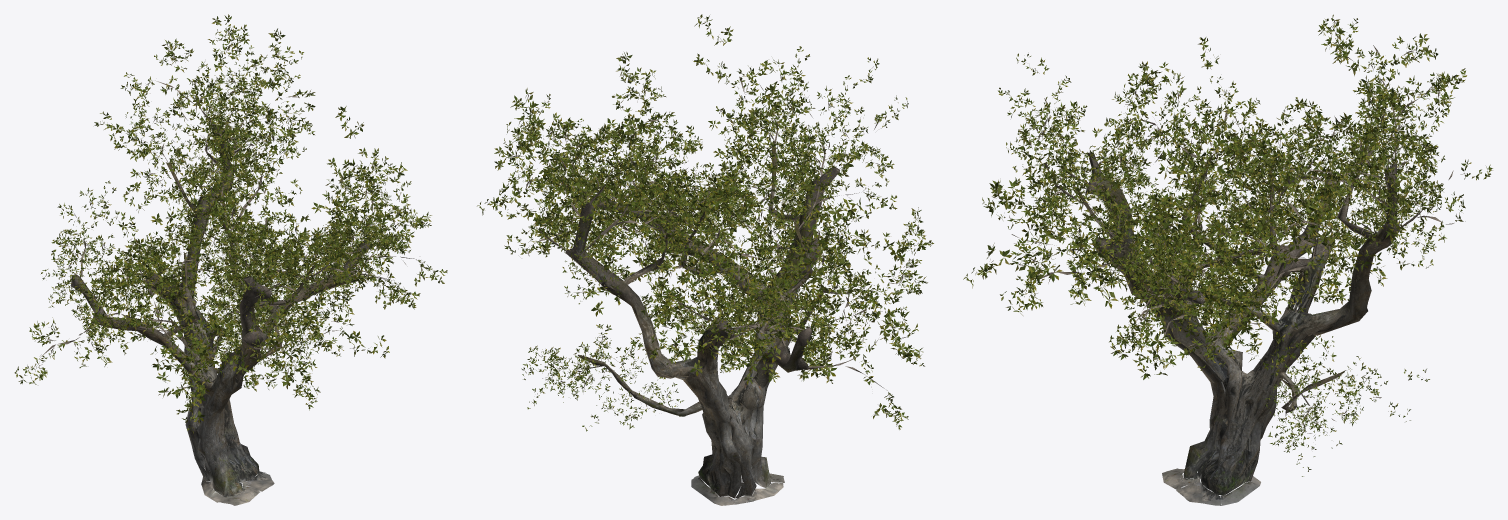
Rendered from island_tree_01.glb.
3 renders of one model, left to right at view 1: azimuth 30°, elevation 25°; view 2: azimuth 150°, elevation 25°; view 3: azimuth 270°, elevation 25°, orthographic. The views are drawn at different scales.
Parts seen in each view (by area): view 1: island_tree_01_LOD0; view 2: island_tree_01_LOD0; view 3: island_tree_01_LOD0.
Part boxes in pixels (x1,y1,x2,y2): island_tree_01_LOD0: (14,14,447,505); island_tree_01_LOD0: (477,14,933,505); island_tree_01_LOD0: (963,14,1492,505).
Size of the model in its own units: 4.75 by 5.02 by 4.82.
3 materials, 3 textured.
